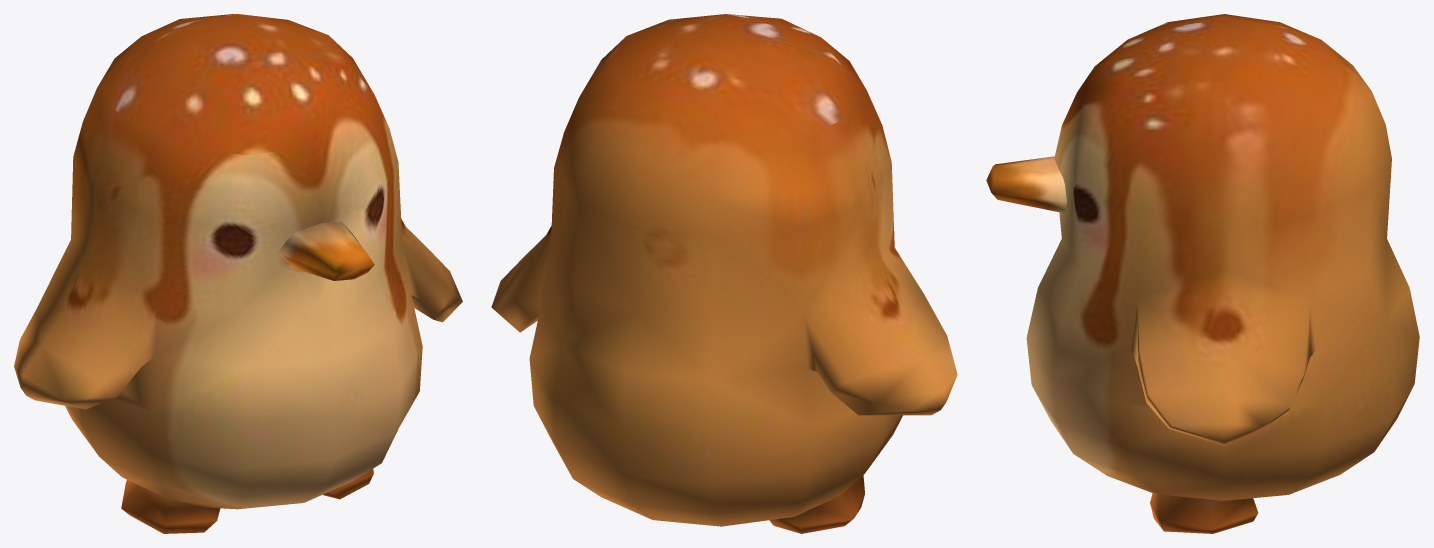
The model's file is penguin-10-32-caramel-drizzle-clay-penguin.gltf.
3 views of the same model, side by side, from view 1: azimuth 30°, elevation 25°; view 2: azimuth 150°, elevation 25°; view 3: azimuth 270°, elevation 25° (orthographic). The views are drawn at different scales.
Visible parts, largest first — view 1: penguin-10-32-caramel-drizzle-clay-penguin; view 2: penguin-10-32-caramel-drizzle-clay-penguin; view 3: penguin-10-32-caramel-drizzle-clay-penguin.
Part boxes in pixels (x1,y1,x2,y2): penguin-10-32-caramel-drizzle-clay-penguin: (14,14,462,533); penguin-10-32-caramel-drizzle-clay-penguin: (491,14,957,533); penguin-10-32-caramel-drizzle-clay-penguin: (986,14,1419,533).
Bounding box in the file's own units: 0.2 × 0.2031 × 0.176.
Materials: 1 (1 with a texture image).
